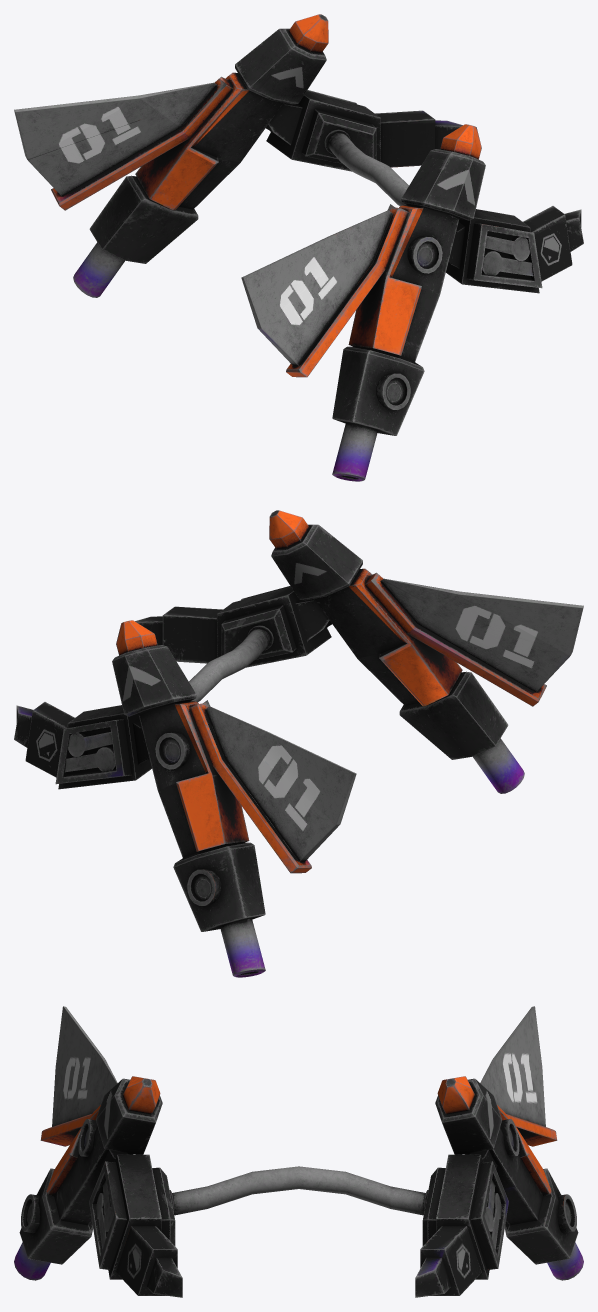
Rendered from SM_JumpPack.FBX.
3 views of the same model, one above another, from view 1: azimuth 30°, elevation 25°; view 2: azimuth 150°, elevation 25°; view 3: azimuth 270°, elevation 25° (orthographic). The views are drawn at different scales.
Parts seen in each view (by area): view 1: SK_JumpPack; view 2: SK_JumpPack; view 3: SK_JumpPack.
Part boxes in pixels (x1,y1,x2,y2): SK_JumpPack: (14,14,583,481); SK_JumpPack: (14,510,583,977); SK_JumpPack: (14,1006,583,1297).
Size of the model in its own units: 38.75 by 46.91 by 25.93.
